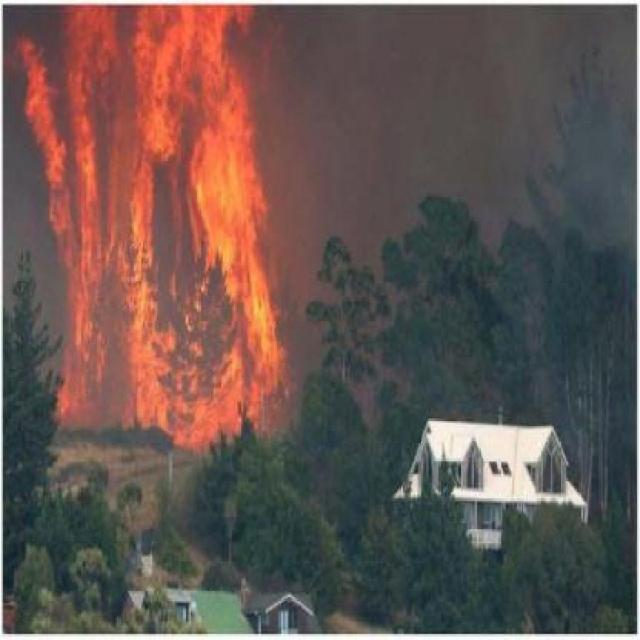Fire: (18, 20, 282, 456)
